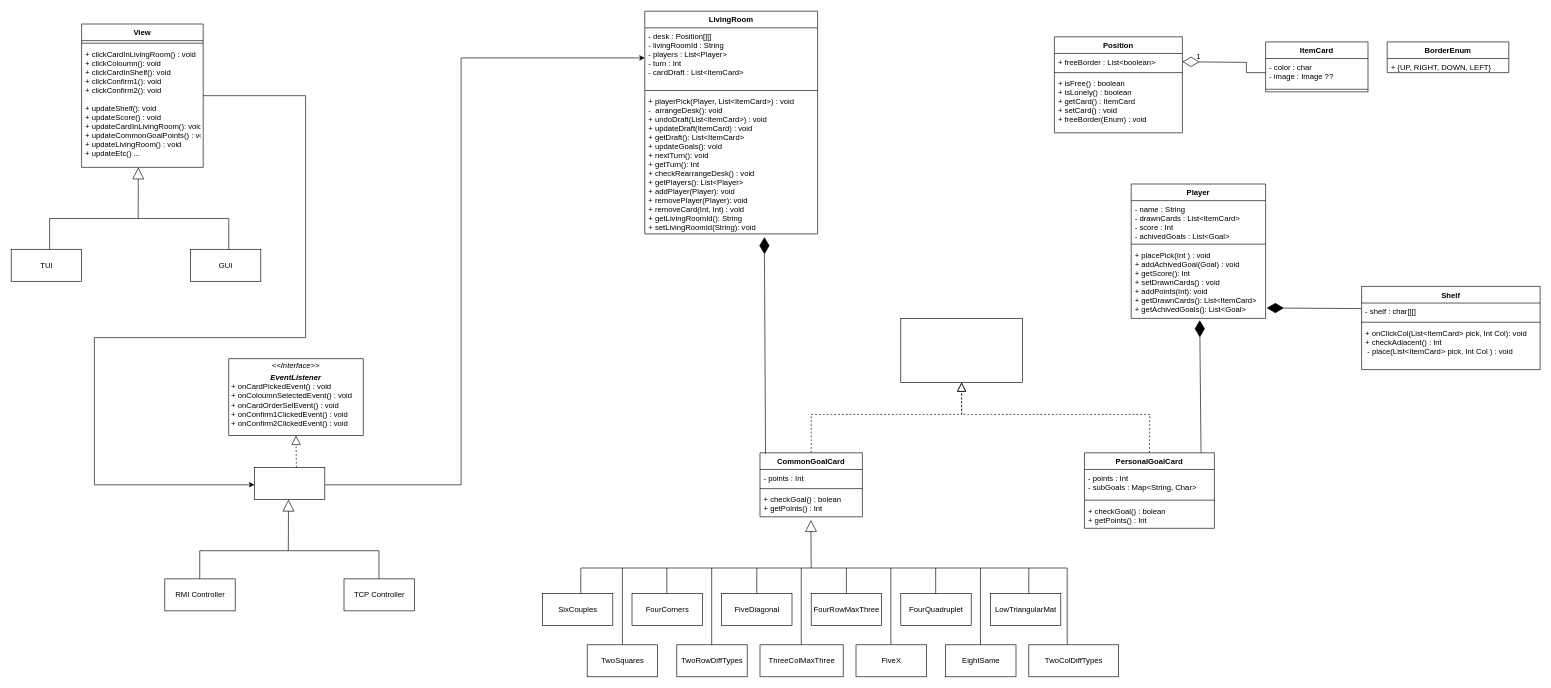
Image size: 1551x688. Some labels were removed from this diagram. The shapes that lost their labels are listed below. From the top down, each one's centre as x and y in pixels, then its label:
pixel 961 350: <<Interface>> Goal - points : Int + checkGoal(): bolean + getPoints(): Int
pixel 289 483: Controller
